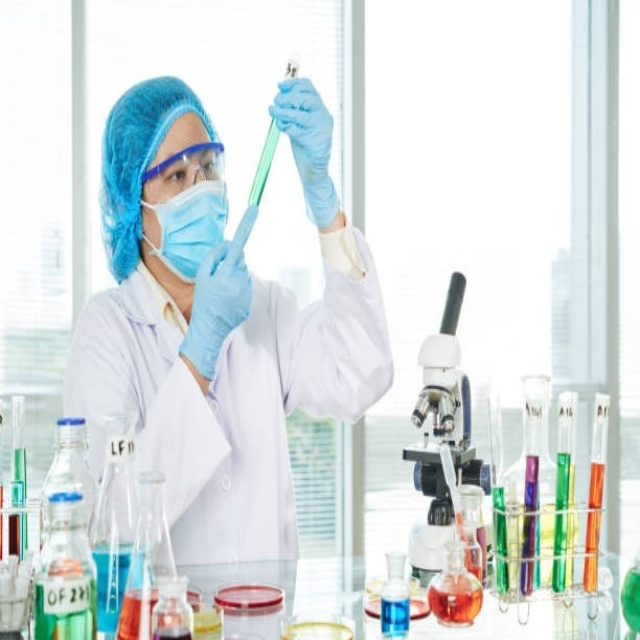Gafas: (141, 141, 226, 191)
Guantes: (178, 209, 255, 384), (269, 73, 339, 229)
Mascara: (140, 166, 231, 283)
